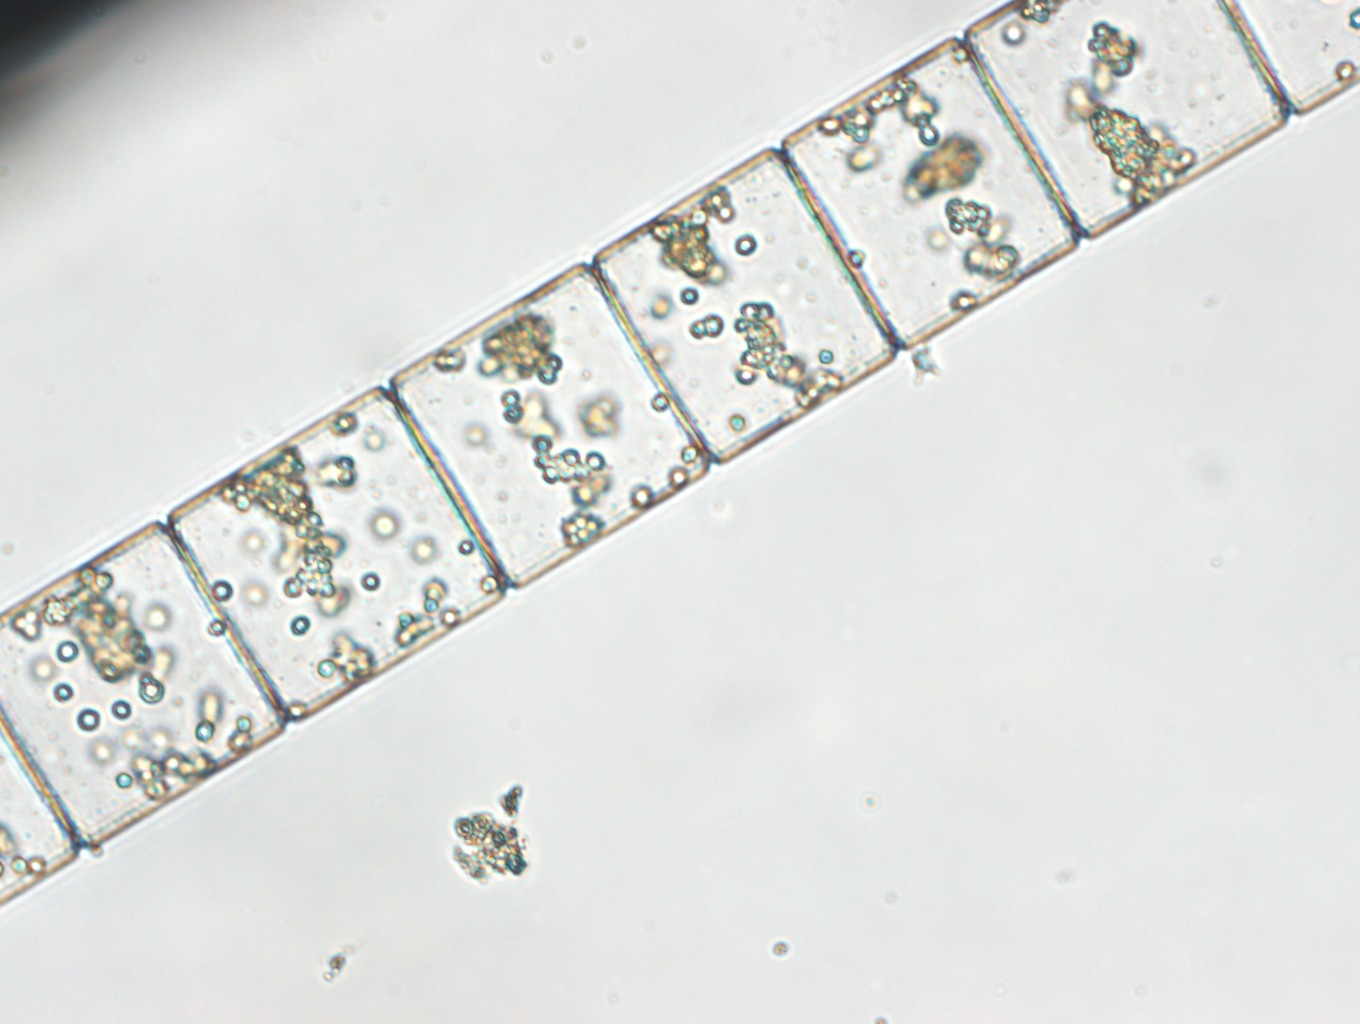guinardia flaccida: (1, 1, 1360, 906)
